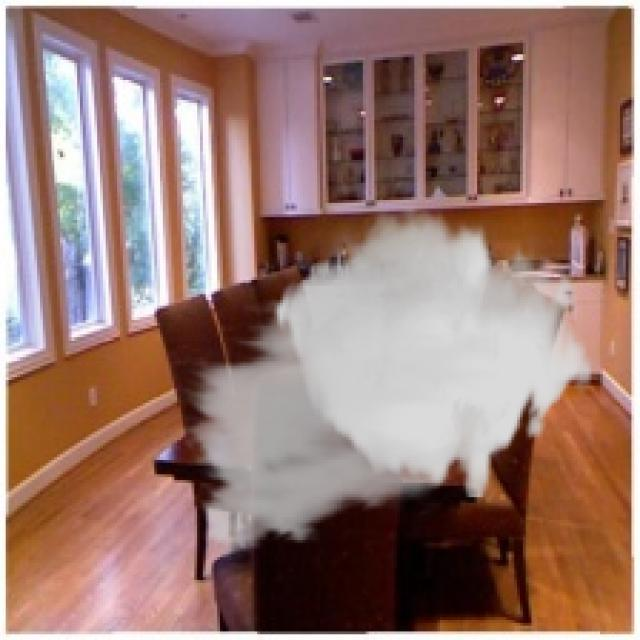Smoke: (177, 208, 594, 566)
